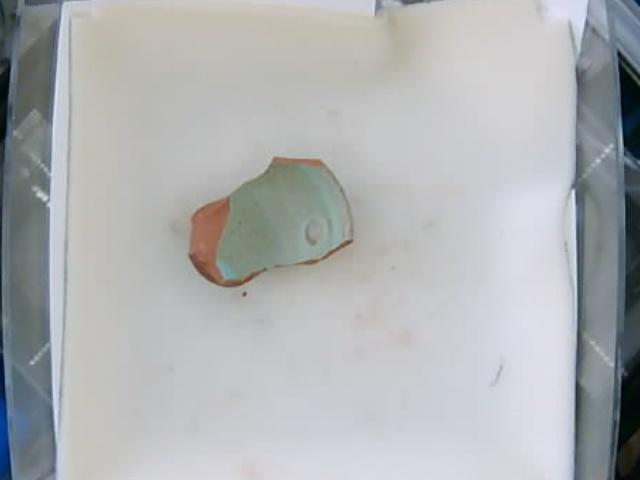China: (191, 156, 357, 287)
